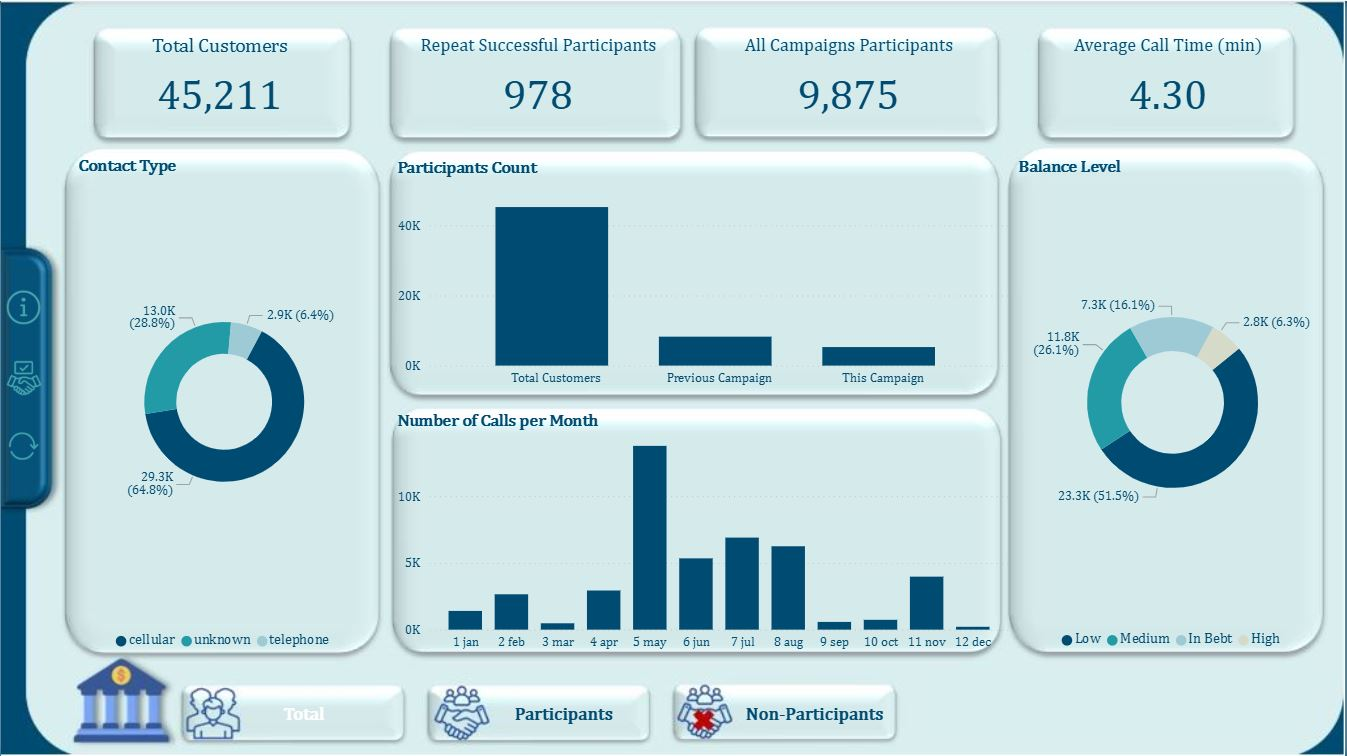

Layout of this report page (visuals, bound fields, positions):
{"tool":"powerbi","page":{"name":"Campaign","canvas":[1280,720],"ordinal":1},"visuals":[{"type":"image","box":[0,267.8,43.4,48.3],"z":0},{"type":"image","box":[0,336.6,43.4,44.6],"z":1000},{"type":"image","box":[0,405.4,43.4,36.2],"z":2000},{"type":"card","title":"Total Customers","fields":{"Values":["measure_table.total_customers"]},"box":[96,32,224,96],"z":3000},{"type":"card","title":"Repeat Successful Participants","fields":{"Values":["measure_table.successful_participant"]},"box":[368,32,288,96],"z":4000},{"type":"card","title":"All Campaigns Participants","fields":{"Values":["measure_table.total_campaign_participants"]},"box":[672,32,272,96],"z":5000},{"type":"card","title":"Average Call Time (min)","fields":{"Values":["measure_table.average_duration"]},"box":[992,32,240,96],"z":6000},{"type":"clusteredColumnChart","title":"Participants Count","fields":{"Category":["CampaignCategory.Category"],"Y":["measure_table.Customer_Count_By_Category"]},"box":[368,144,592,224],"z":7000},{"type":"donutChart","title":"Contact Type","fields":{"Category":["dim_contact.contact"],"Y":["measure_table.count_contact_type"]},"box":[64,144,288,480],"z":8000},{"type":"clusteredColumnChart","title":"Number of Calls per Month","fields":{"Category":["bank_marketing.MonthNumber","bank_marketing.month"],"Y":["measure_table.count_contact_by_month"]},"box":[368,384,592,240],"z":9000},{"type":"advancedSlicerVisual","fields":{"Values":["SlicerTable.Status"]},"box":[256,656,656,48],"z":10000},{"type":"donutChart","title":"Balance Level","fields":{"Category":["bank_marketing.balance_category"],"Y":["measure_table.count_customers_By_balance"]},"box":[960,144,304,480],"z":10001}]}

Visuals, with their boxes in screenshot pixels (x1, y1, x2, y2), scaled from the page's 1280x720 canvas onto the 1347x756 screenshot:
image: Rect(0, 281, 46, 332)
image: Rect(0, 353, 46, 400)
image: Rect(0, 426, 46, 464)
"Total Customers" card: Rect(101, 34, 337, 134)
"Repeat Successful Participants" card: Rect(387, 34, 690, 134)
"All Campaigns Participants" card: Rect(707, 34, 993, 134)
"Average Call Time (min)" card: Rect(1044, 34, 1296, 134)
"Participants Count" clusteredColumnChart: Rect(387, 151, 1010, 386)
"Contact Type" donutChart: Rect(67, 151, 370, 655)
"Number of Calls per Month" clusteredColumnChart: Rect(387, 403, 1010, 655)
advancedSlicerVisual - SlicerTable.Status: Rect(269, 689, 960, 739)
"Balance Level" donutChart: Rect(1010, 151, 1330, 655)
